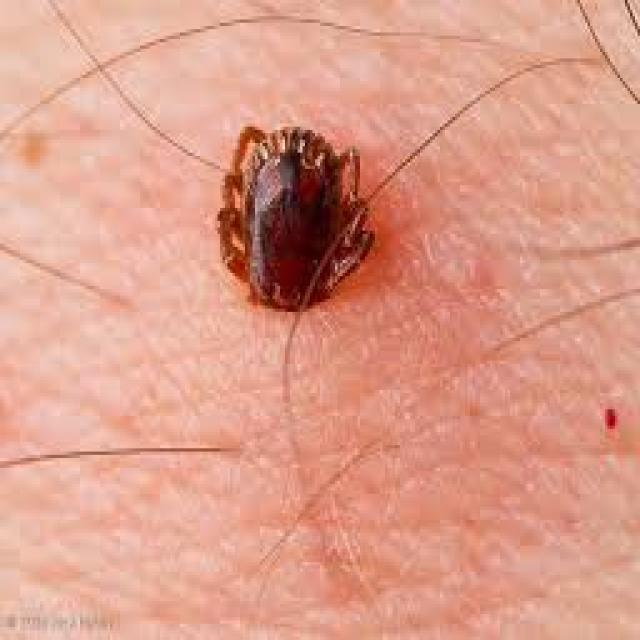kene: (176, 107, 416, 342)
